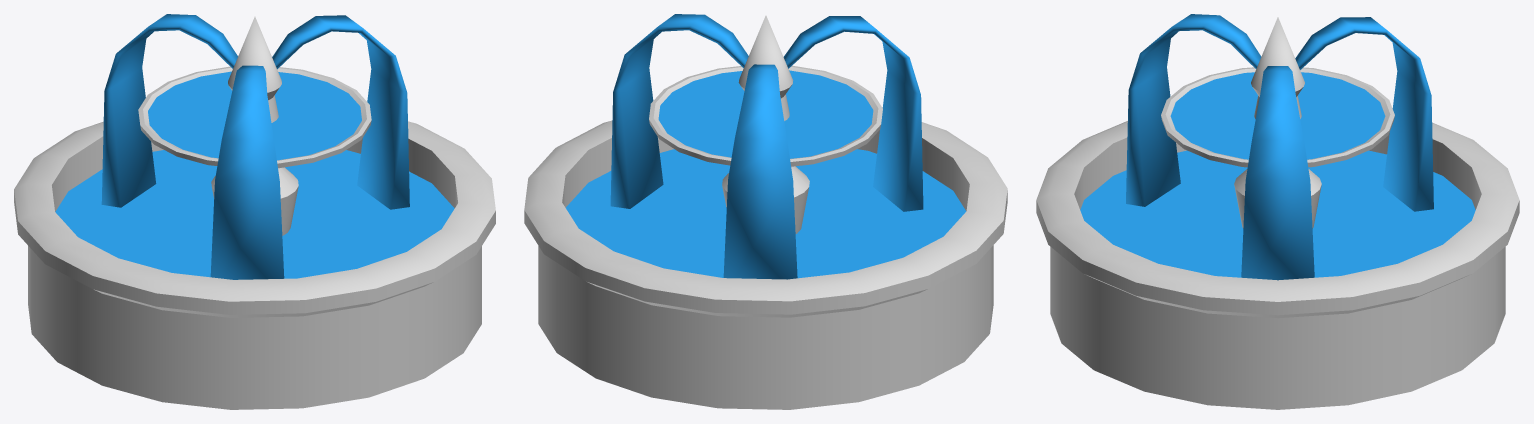
Rendered from fountain.fbx.
The picture shows the model from 3 angles, left to right: view 1: azimuth 30°, elevation 25°; view 2: azimuth 150°, elevation 25°; view 3: azimuth 270°, elevation 25°; orthographic projection.
Parts seen in each view (by area): view 1: фонтан, вода; view 2: фонтан, вода; view 3: фонтан, вода.
Part boxes in pixels (bbox=[...]): фонтан: bbox=[14, 16, 495, 409]; вода: bbox=[55, 14, 454, 279]; фонтан: bbox=[524, 15, 1007, 409]; вода: bbox=[566, 14, 966, 279]; фонтан: bbox=[1036, 17, 1519, 409]; вода: bbox=[1080, 14, 1475, 280].
Size of the model in its own units: 148 by 100 by 148.
